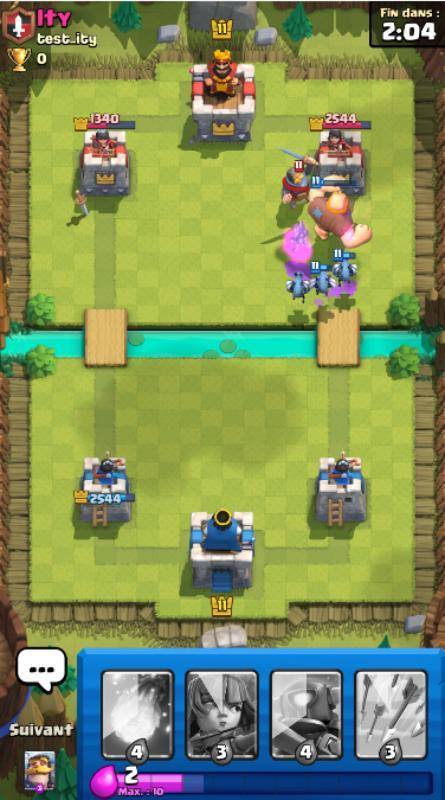chevalier: (278, 147, 319, 209)
gargouille: (308, 260, 337, 296), (332, 249, 358, 286), (284, 269, 311, 304)
geant: (307, 174, 373, 250)
